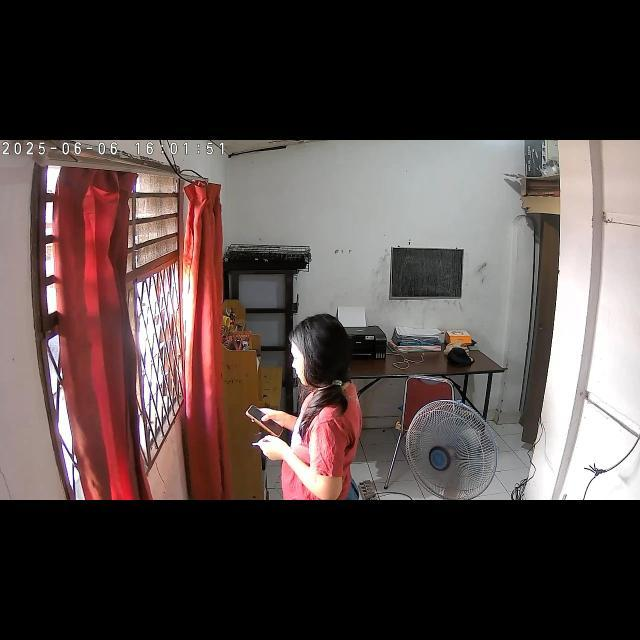rokok: (249, 433, 283, 463)
